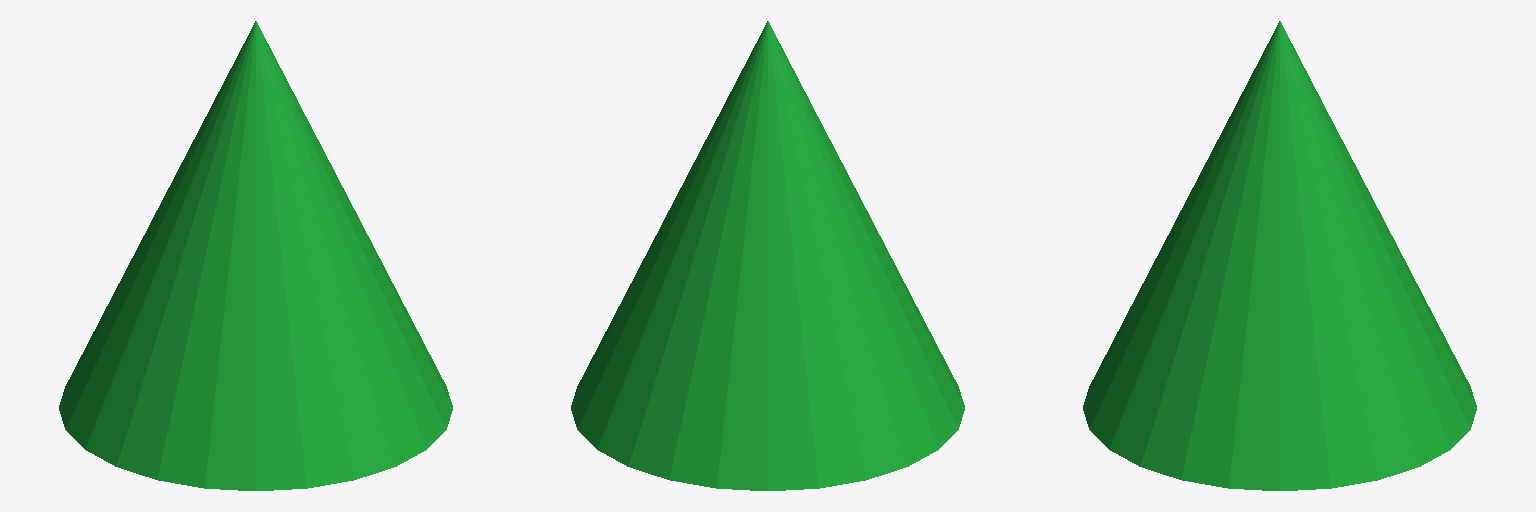
The robot description file, URDF, robot "green_cone":
<?xml version="1.0"?>
<robot name="green_cone">
  <link name="base_link">
    <contact>
      <lateral_friction value="0.9"/>
      <rolling_friction value="0.08"/>
      <spinning_friction value="0.06"/>
      <restitution value="0.0"/>
    </contact>
    <inertial>
      <origin rpy="0 0 0" xyz="0 0 0"/>
      <mass value="0.5"/>
      <inertia ixx="0.001" ixy="0" ixz="0" iyy="0.001" iyz="0" izz="0.001"/>
    </inertial>
    <visual>
      <origin rpy="0 0 0" xyz="0 0 0"/>
      <geometry>
        <mesh filename="cone.obj" scale="1 1 1"/>
      </geometry>
      <material name="green">
        <color rgba="0.180 0.720 0.280 1.000"/>
      </material>
    </visual>
    <collision>
      <origin rpy="0 0 0" xyz="0 0 0"/>
      <geometry>
        <mesh filename="cone.obj" scale="1 1 1"/>
      </geometry>
    </collision>
  </link>
</robot>

--- Render facts (derived) ---
The picture shows the robot from 3 angles, left to right: view 1: azimuth 30°, elevation 25°; view 2: azimuth 150°, elevation 25°; view 3: azimuth 270°, elevation 25°; orthographic projection.
Robot: green_cone — 1 links, 0 joints (none); root link base_link; default pose: every joint at zero.
Links seen in each view (by area): view 1: base_link; view 2: base_link; view 3: base_link.
Boxes of the visible links, x1,y1,x2,y2 form: base_link: [59, 21, 452, 490]; base_link: [571, 21, 964, 490]; base_link: [1083, 21, 1476, 490].
Bounding box of the posed robot: 0.12 × 0.12 × 0.13 m (x, y, z).
1 mesh visuals loaded from 1 distinct referenced files (1 OBJ).
